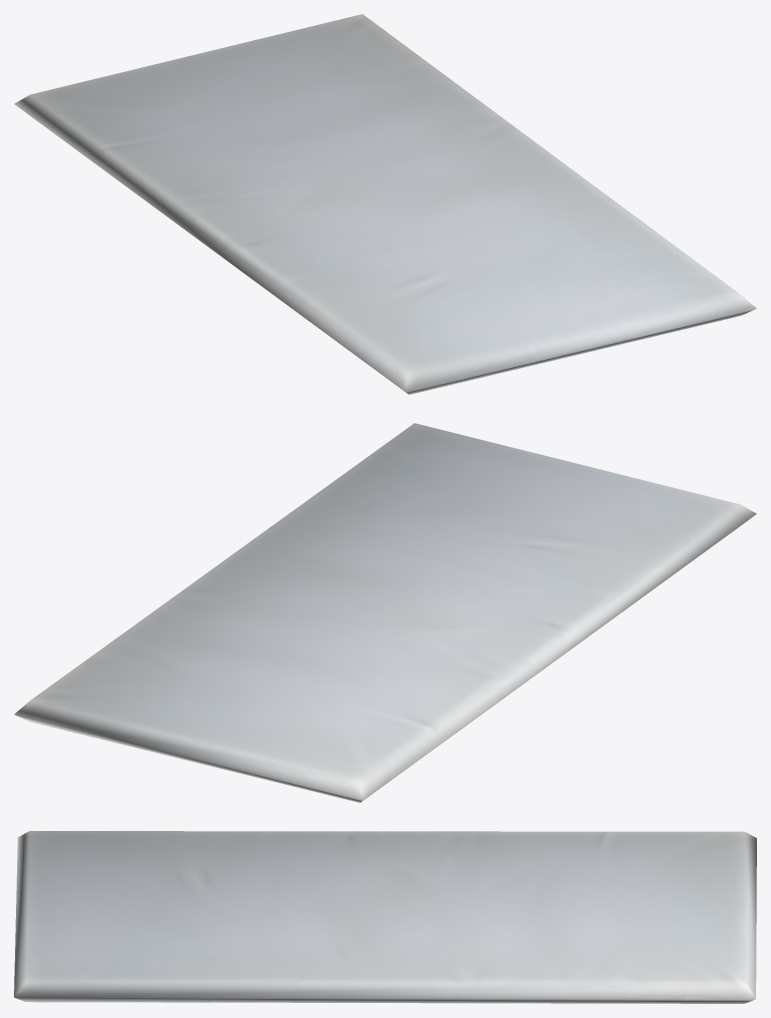
The model's file is jov_fton01a0.fbx.
3 renders of one model, top to bottom at view 1: azimuth 30°, elevation 25°; view 2: azimuth 150°, elevation 25°; view 3: azimuth 270°, elevation 25°, orthographic. The views are drawn at different scales.
Parts seen in each view (by area): view 1: jov_fton01a0; view 2: jov_fton01a0; view 3: jov_fton01a0.
Boxes of the visible parts, box(x1,y1,x2,y2) form: jov_fton01a0: box(14, 14, 756, 394); jov_fton01a0: box(14, 423, 756, 802); jov_fton01a0: box(14, 831, 756, 1003).
Bounding box in the file's own units: 123 × 7.12 × 239.
